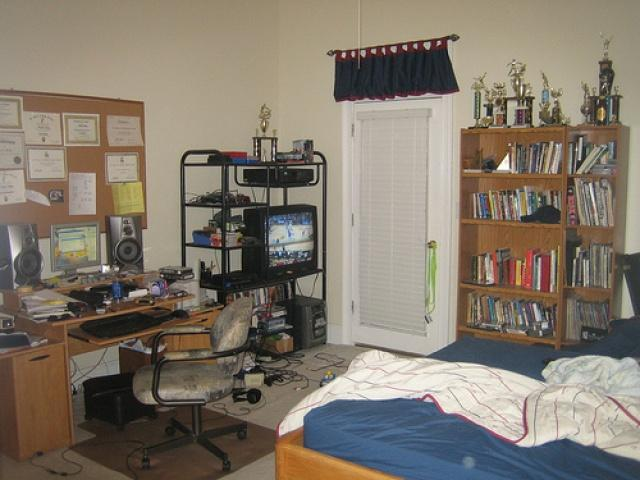Kursi: (131, 291, 254, 473)
Rak: (458, 124, 631, 348)
